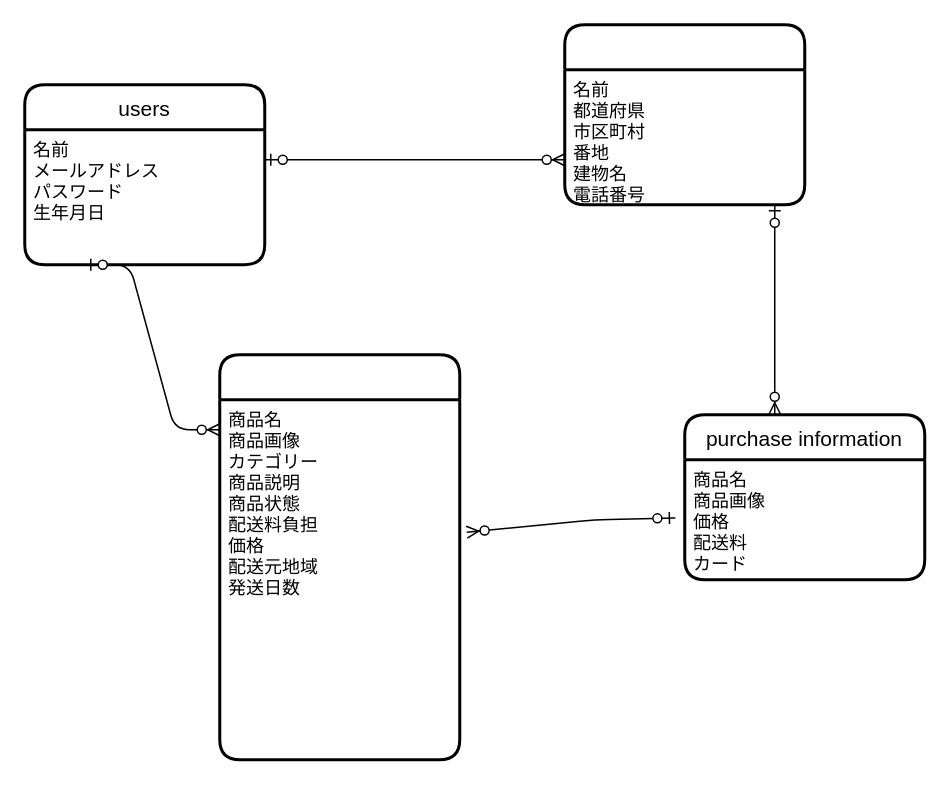
Some shapes in this 950 by 785 pixel diagram are drawn without their labels. Here are the shapes that lost their labels. From the top down, the box of each, then its label:
(562, 22, 806, 206): destination
(218, 352, 460, 760): product
